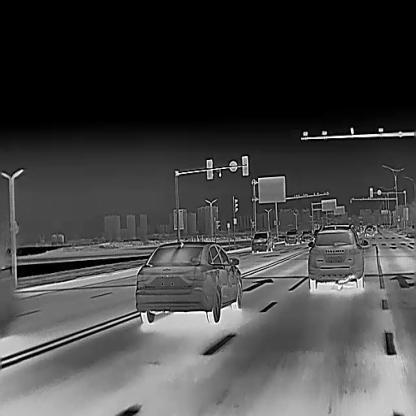car: (134, 240, 243, 322), (306, 222, 369, 289), (251, 230, 275, 252), (299, 229, 313, 245), (285, 229, 298, 245), (364, 225, 374, 238), (371, 223, 377, 234)
